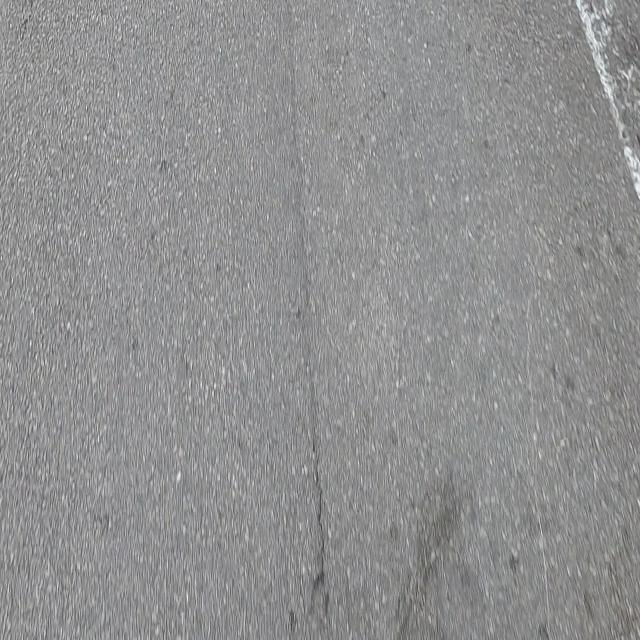Retak-Memanjang: (311, 425, 328, 584)
